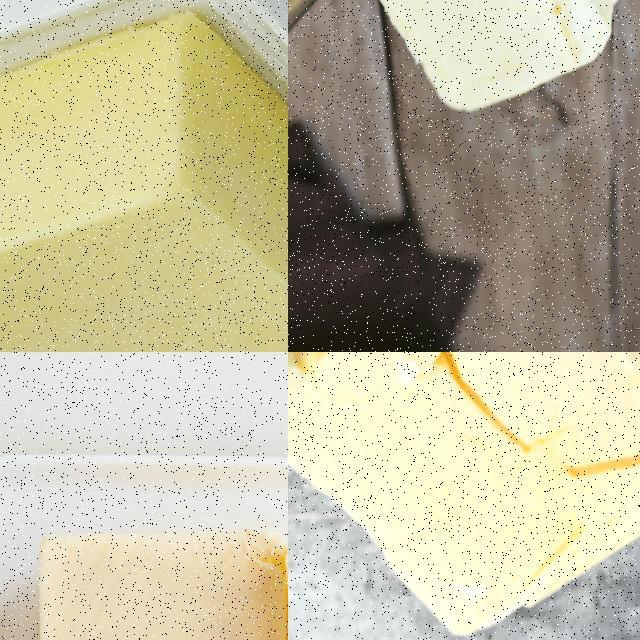Butter: (288, 352, 639, 639), (0, 11, 287, 351), (35, 523, 287, 639), (370, 0, 616, 116)
